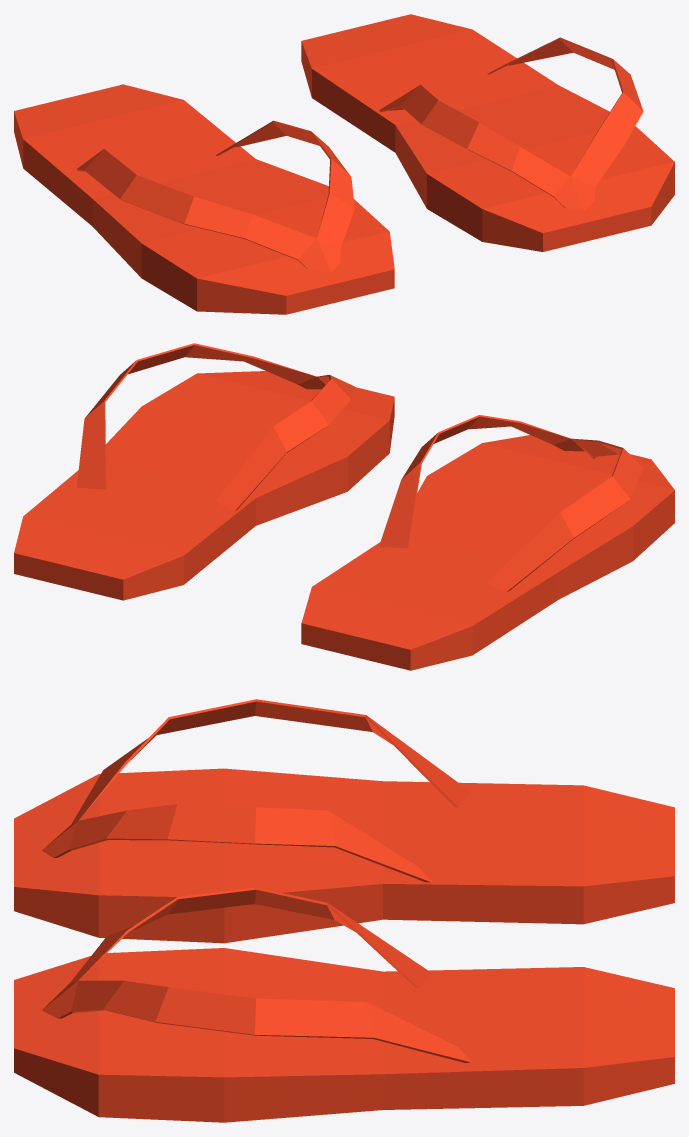
File: SM_Flipflops_City.fbx
The picture shows the model from 3 angles, top to bottom: view 1: azimuth 30°, elevation 25°; view 2: azimuth 150°, elevation 25°; view 3: azimuth 270°, elevation 25°; orthographic projection. The views are drawn at different scales.
Parts seen in each view (by area): view 1: SM_Flipflops_City; view 2: SM_Flipflops_City; view 3: SM_Flipflops_City.
Boxes of the visible parts, left/top/right/bottom form: SM_Flipflops_City: left=14, top=14, right=674, bottom=314; SM_Flipflops_City: left=14, top=343, right=674, bottom=670; SM_Flipflops_City: left=14, top=699, right=674, bottom=1122.
Bounding box in the file's own units: 0.3097 × 0.0544 × 0.2693.
